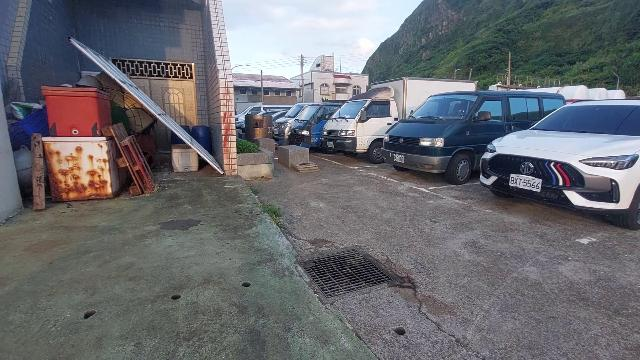pollute: (41, 71, 160, 203), (6, 100, 48, 152), (179, 125, 211, 156), (12, 146, 33, 192), (34, 135, 45, 210), (170, 143, 198, 172)
